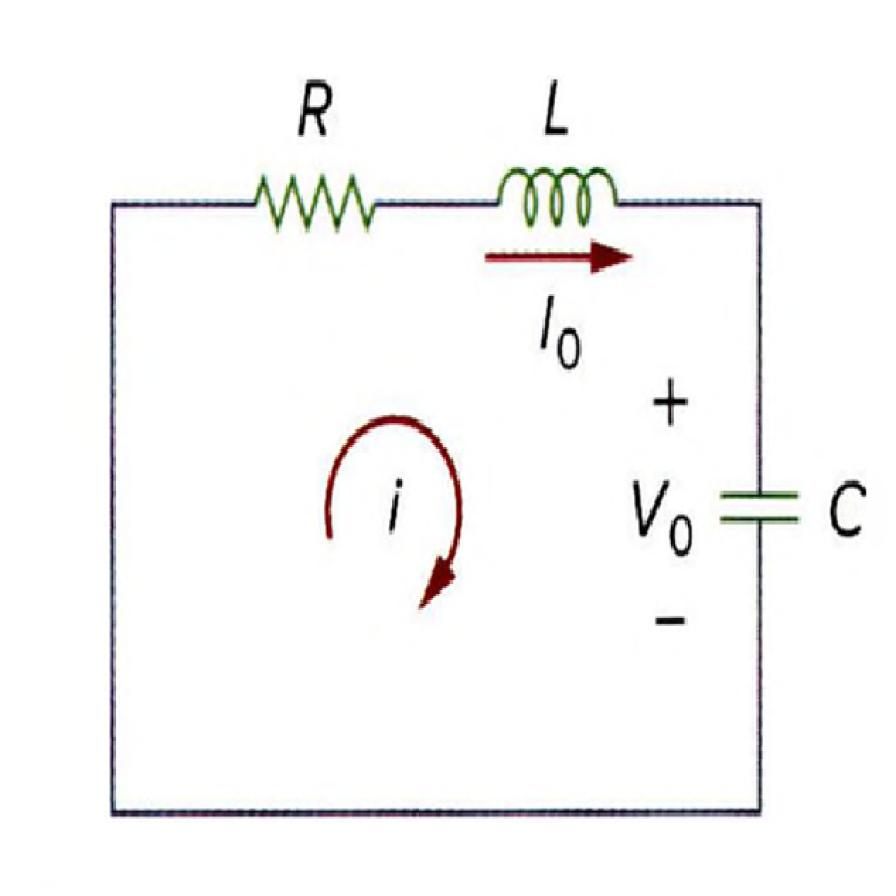C2: (704, 451, 814, 565)
L1: (475, 156, 635, 238)
R1: (237, 150, 386, 248)
